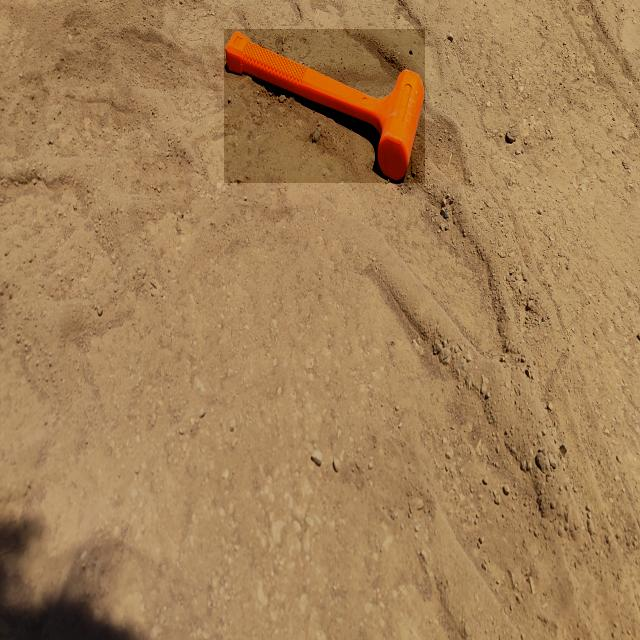Orange_hammer: (224, 29, 425, 183)
